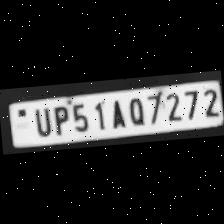1: (88, 97, 110, 130)
2: (197, 84, 222, 119), (160, 90, 184, 124)
5: (67, 100, 92, 134)
7: (178, 87, 201, 121), (144, 92, 164, 125)
A: (105, 96, 127, 130)
P: (48, 102, 71, 135)
Q: (124, 93, 146, 126)
U: (28, 104, 52, 137)
